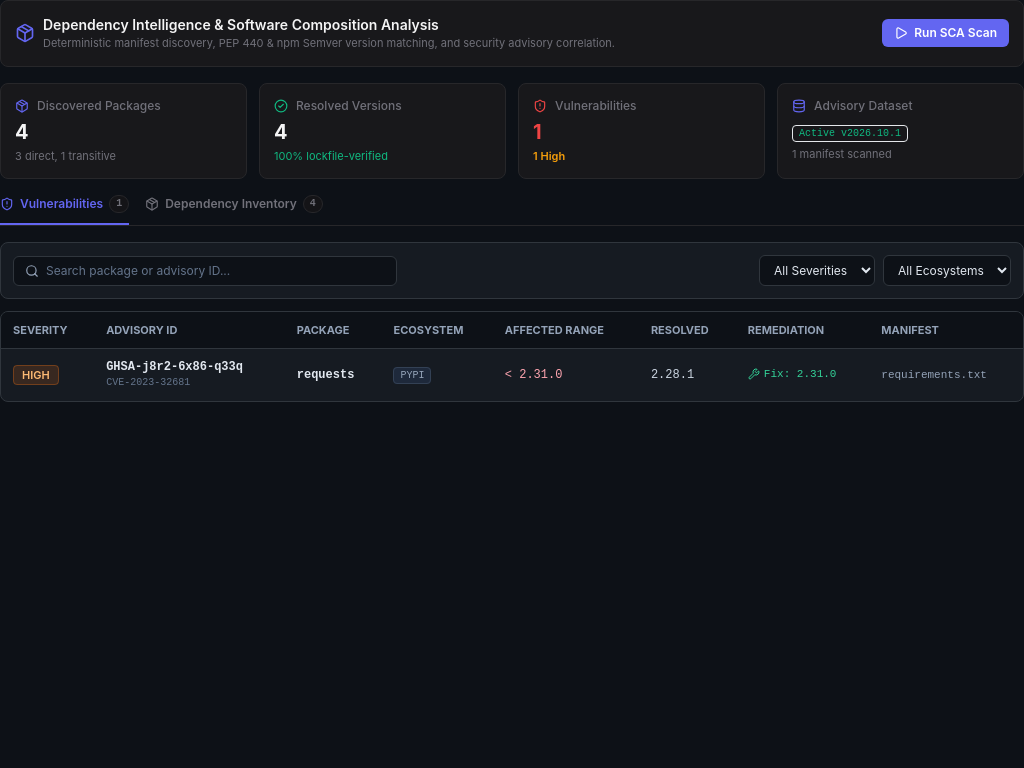
DependencyView Component › renders metric cards, vulnerabilities, and opens detail inspection modal
Expected: the text "Discovered Packages" is shown, [37, 98, 161, 114]
Expected: the text "Resolved Versions" is shown, [296, 98, 402, 114]
# Click on vulnerability row to open inspection modal
Click the text "GHSA-j8r2-6x86-q33q" at coordinates (174, 367), box [106, 360, 243, 374]
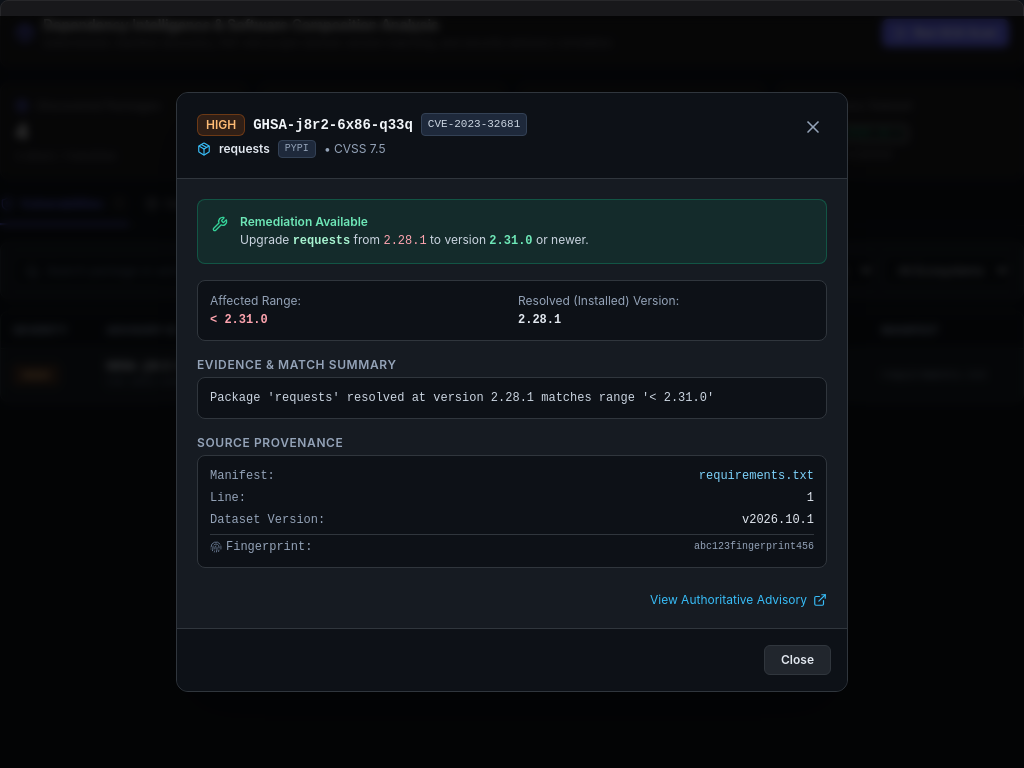
Now the text "Remediation Available" is shown, box [240, 214, 368, 229]
Now the heading "Evidence & Match Summary" is shown, box [197, 357, 396, 372]
Now the text "abc123fingerprint456" is shown, box [694, 539, 814, 555]
# Close modal
Click the button named "close modal" at coordinates (813, 127), box [799, 113, 827, 141]
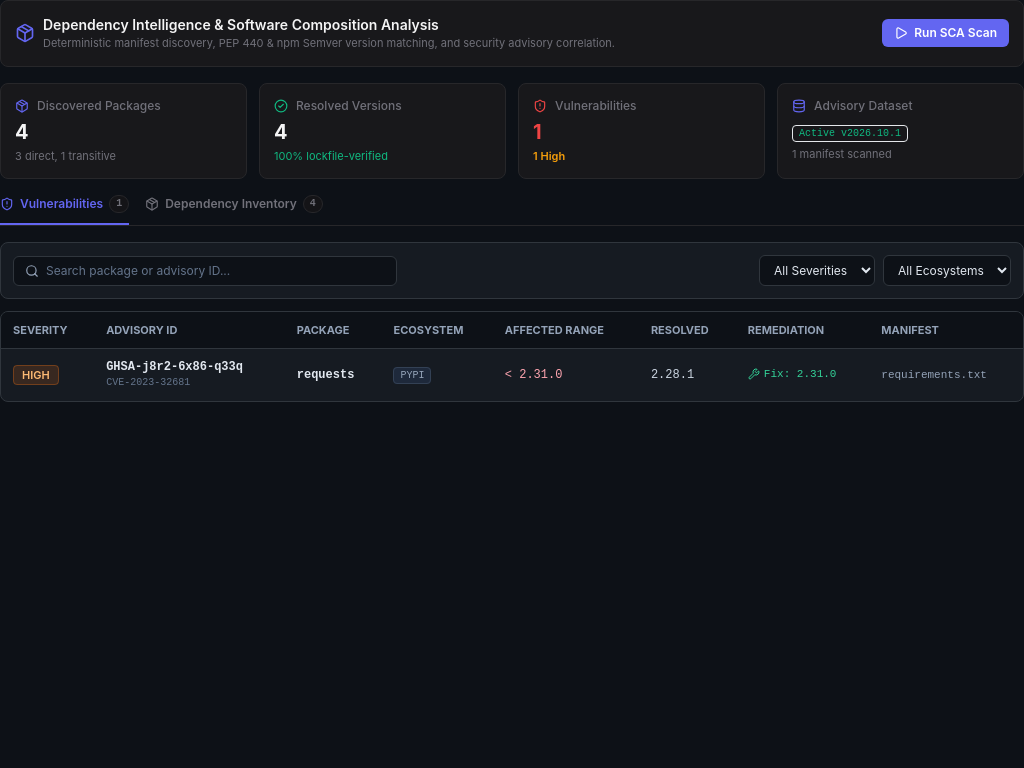
Now the text "Remediation Available" is gone
